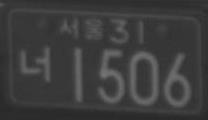0: (126, 48, 161, 108)
1: (64, 45, 92, 103), (130, 18, 150, 45)
3: (107, 17, 130, 44)
5: (95, 46, 126, 105)
6: (162, 51, 193, 109)
너: (18, 44, 53, 84)
서울_O: (57, 14, 105, 42)
